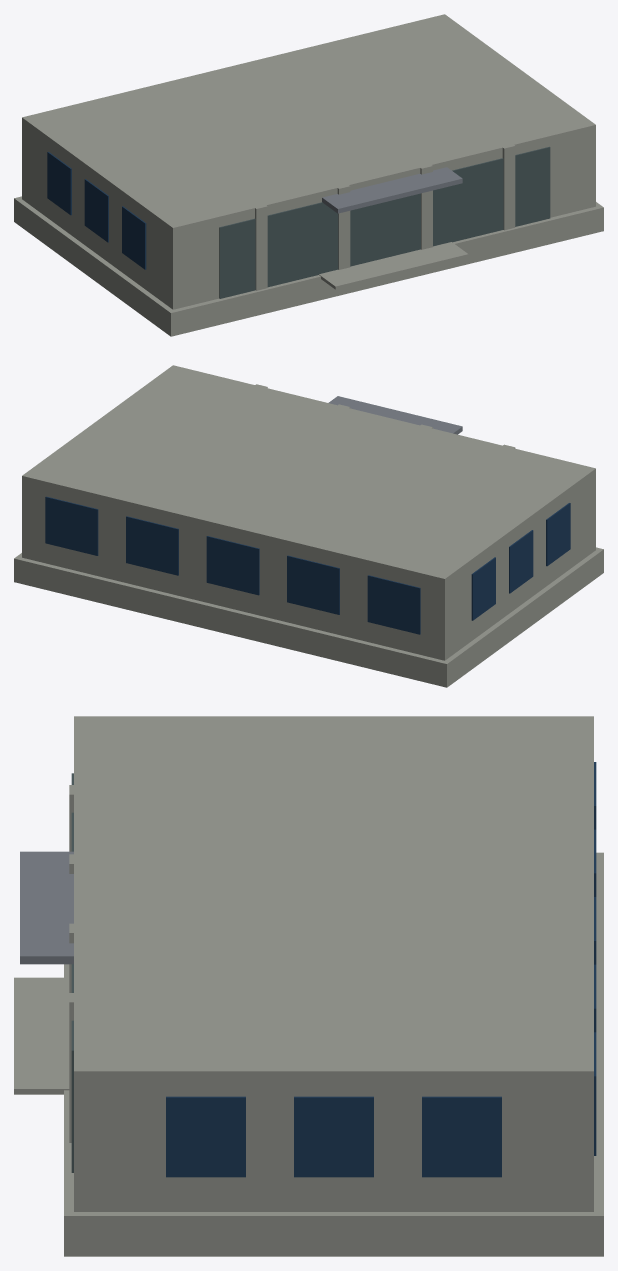
File: mashup-main-base-prebuilt.fbx
3 renders of one model, top to bottom at view 1: azimuth 30°, elevation 25°; view 2: azimuth 150°, elevation 25°; view 3: azimuth 270°, elevation 25°, orthographic. The views are drawn at different scales.
Parts seen in each view (by area): view 1: a201.MainBase; view 2: a201.MainBase; view 3: a201.MainBase.
Part boxes in pixels (box(x1,y1,x2,y2)): a201.MainBase: box(14, 14, 603, 336); a201.MainBase: box(14, 365, 603, 687); a201.MainBase: box(14, 716, 603, 1256).
Size of the model in its own units: 21.5 by 5 by 14.75.
